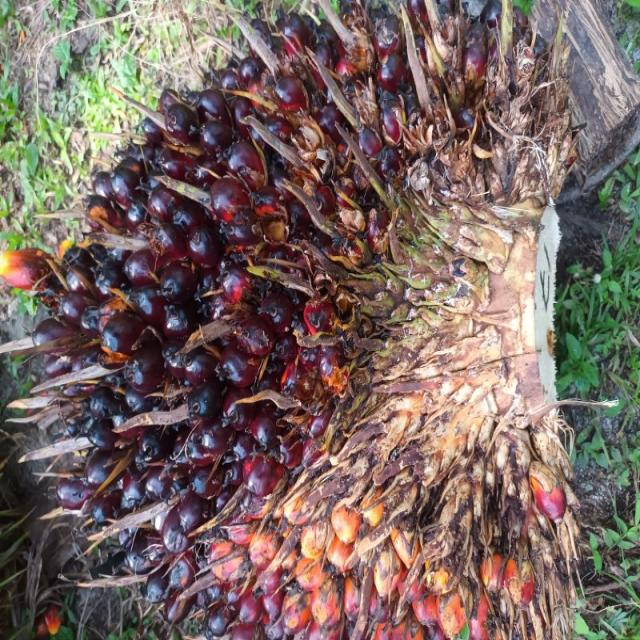fraksi 1: (12, 21, 580, 640)
